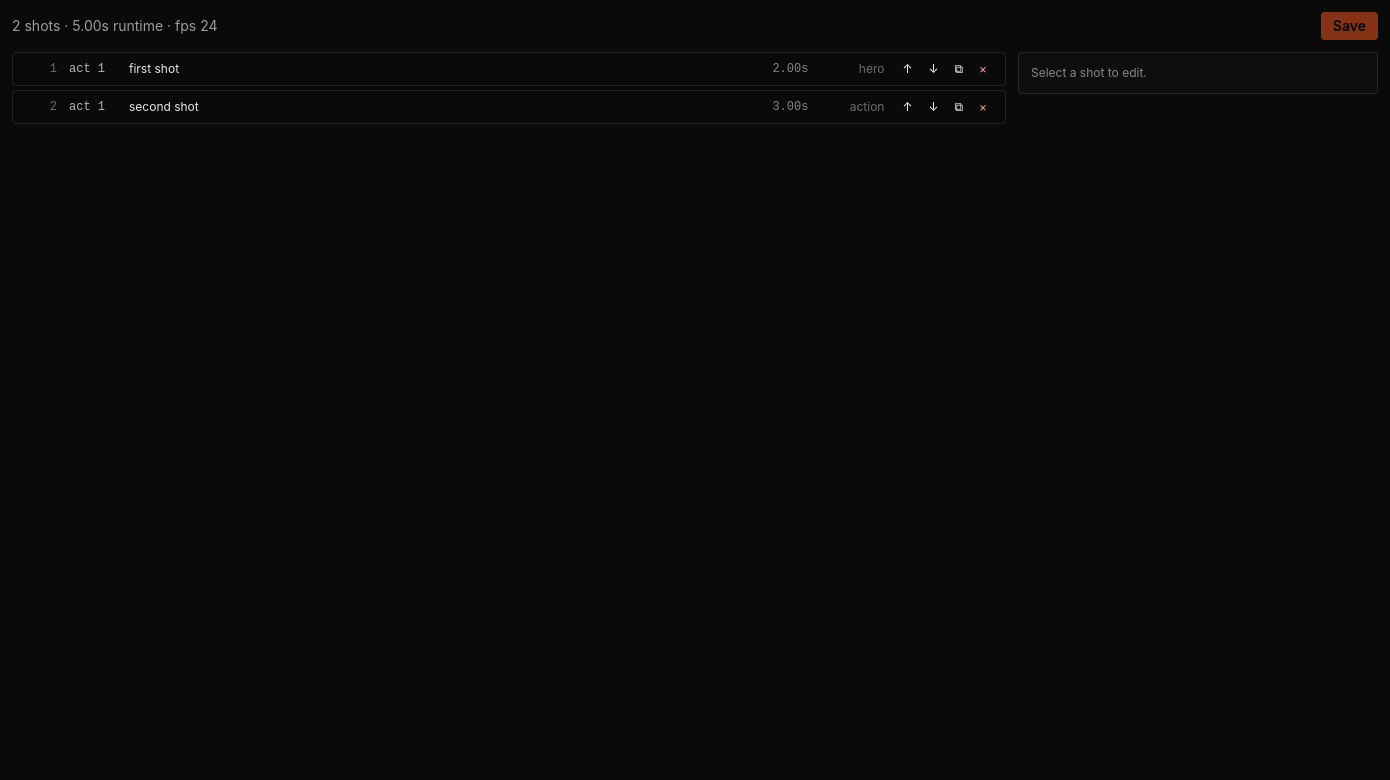
Test: ShotListEditor › marks unsaved when a shot is edited
Click the text "first shot" at (154, 68), box [129, 61, 179, 76]
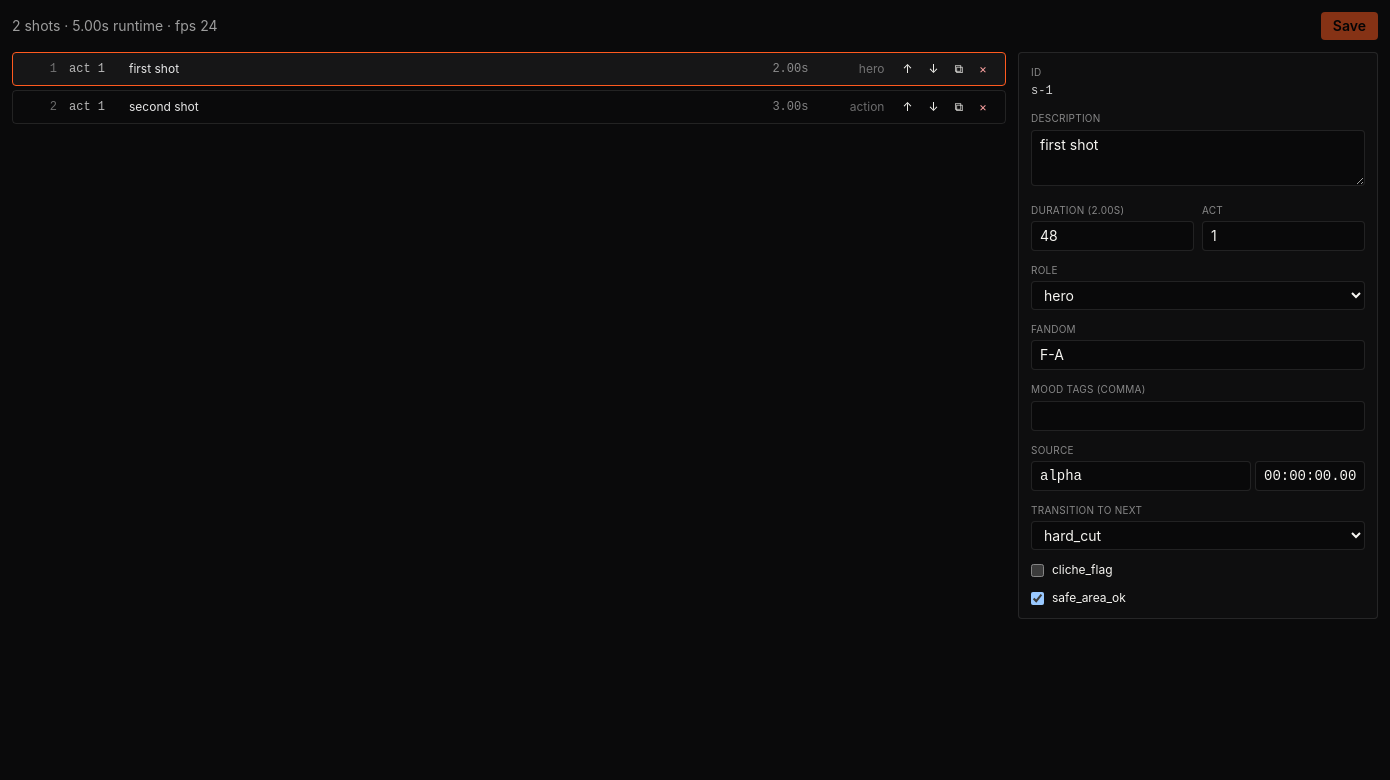
Note: Description textarea has value "first shot"
Replace the text in the text box showing "first shot" with "edited shot" at (1198, 158), box [1031, 130, 1365, 186]
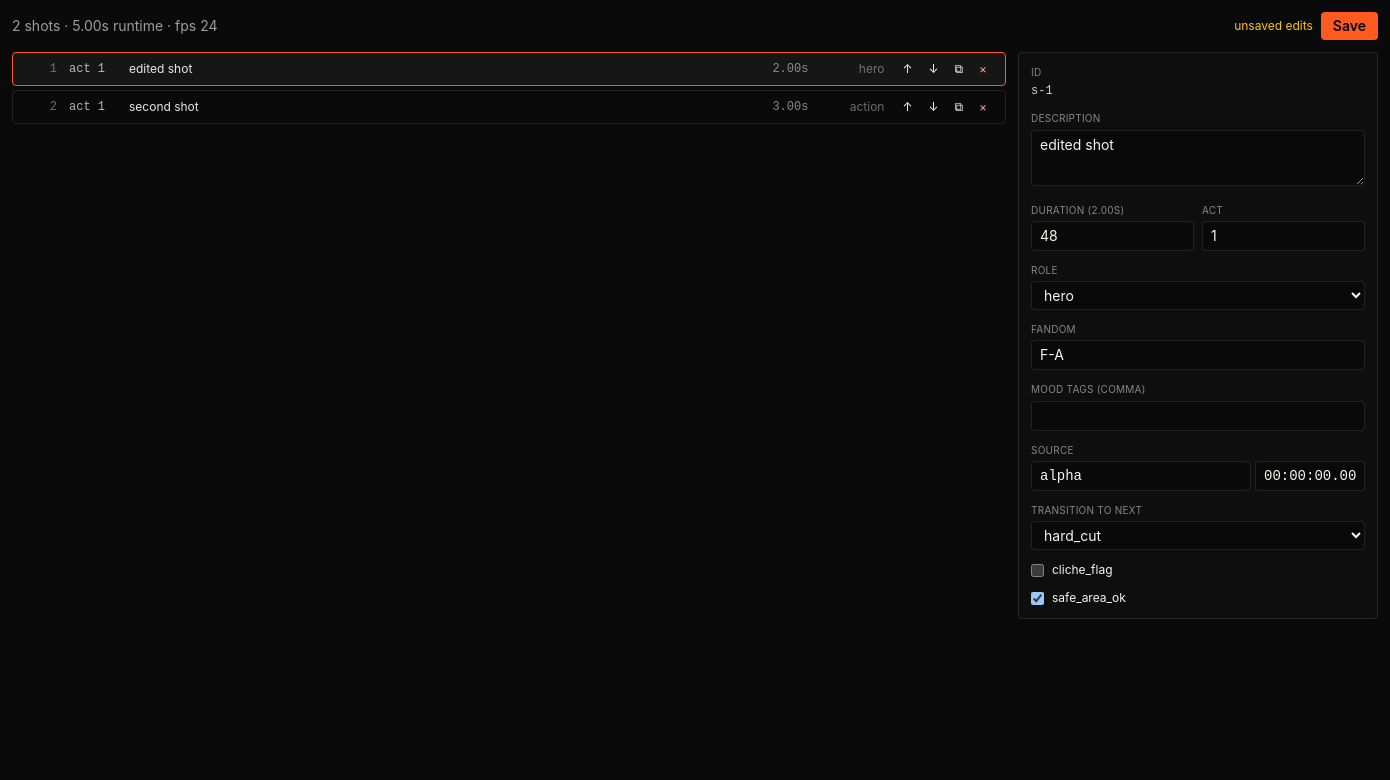
Result: the text "unsaved edits" is shown at [1234, 18, 1313, 34]
